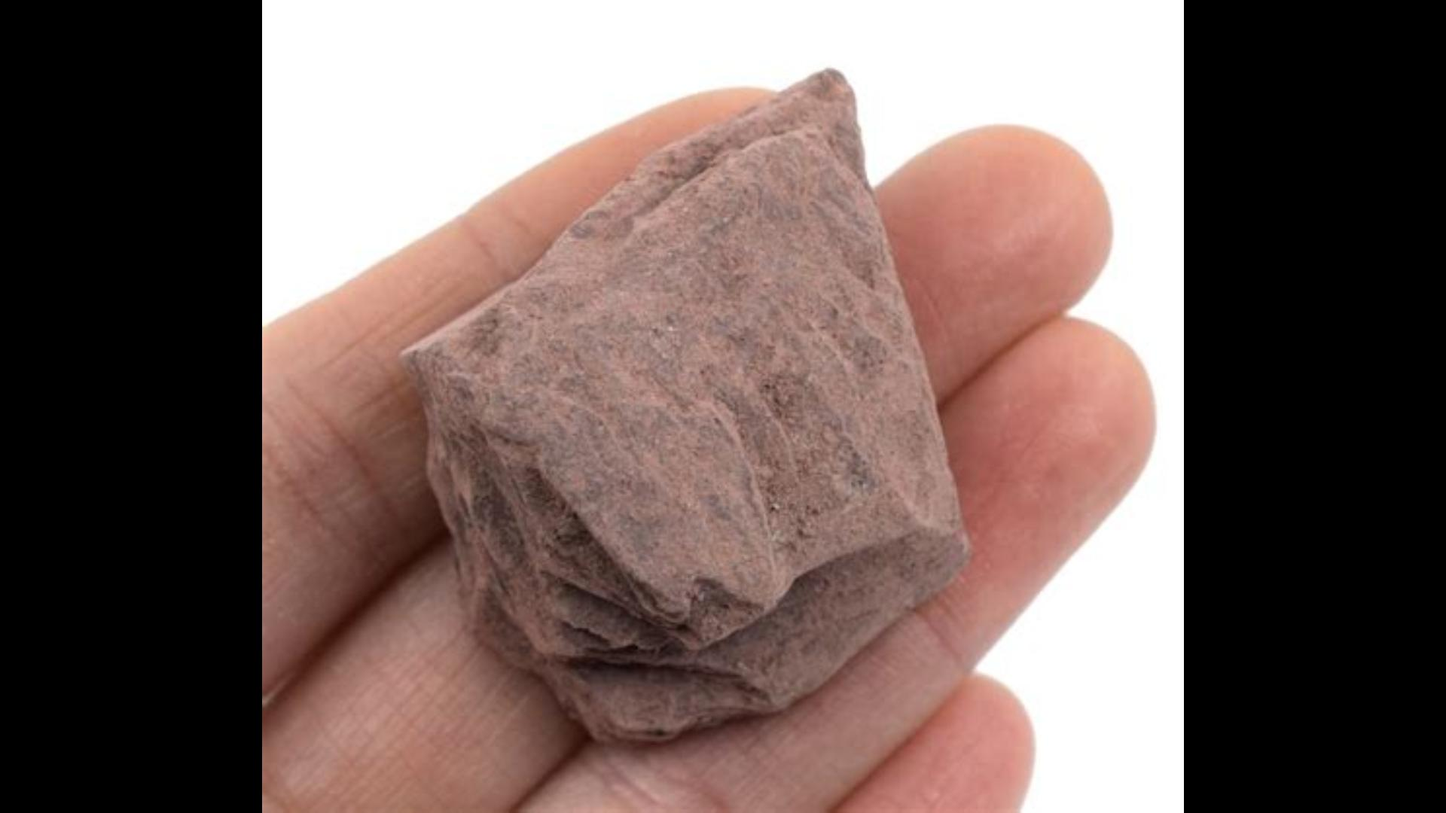rock: (404, 74, 965, 739)
